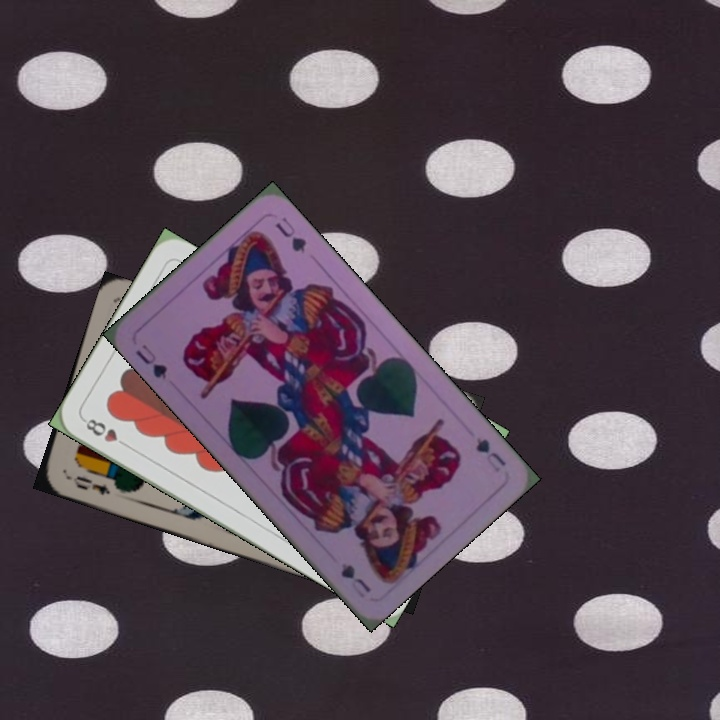EO: (62, 471, 113, 498)
GU: (131, 340, 170, 382), (471, 433, 509, 475)
H8: (80, 414, 133, 451)
